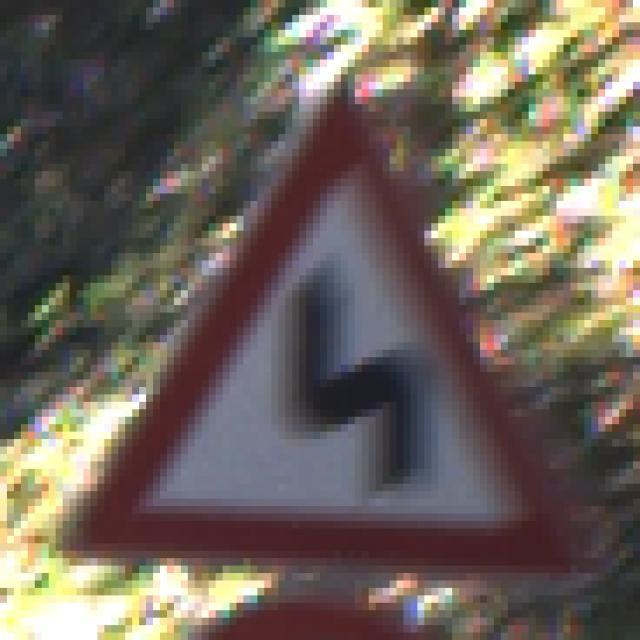left reverse bend: (56, 95, 588, 578)
